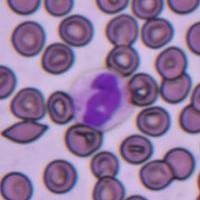N: (68, 69, 133, 130)
